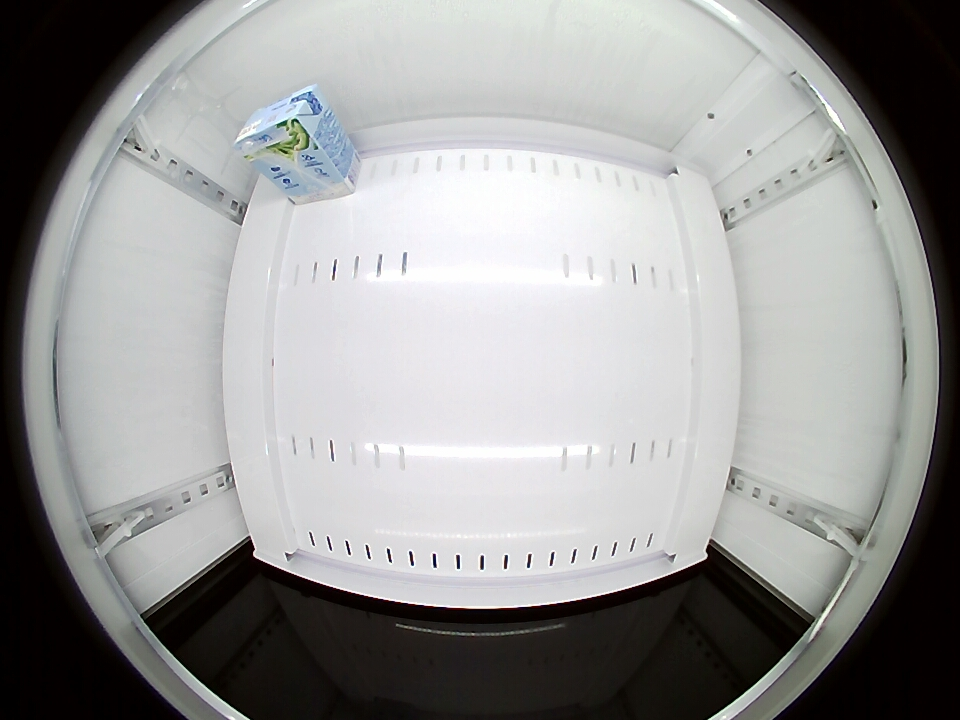weitanaiditang: (233, 84, 330, 165)
